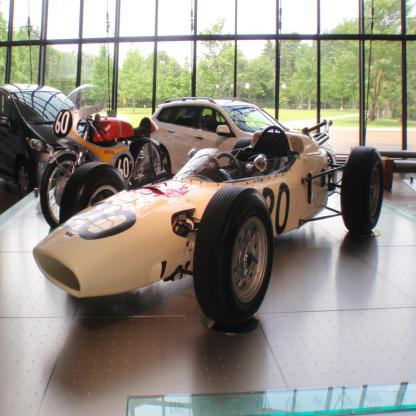Car: (31, 119, 385, 325), (150, 96, 292, 178), (0, 84, 80, 198)
